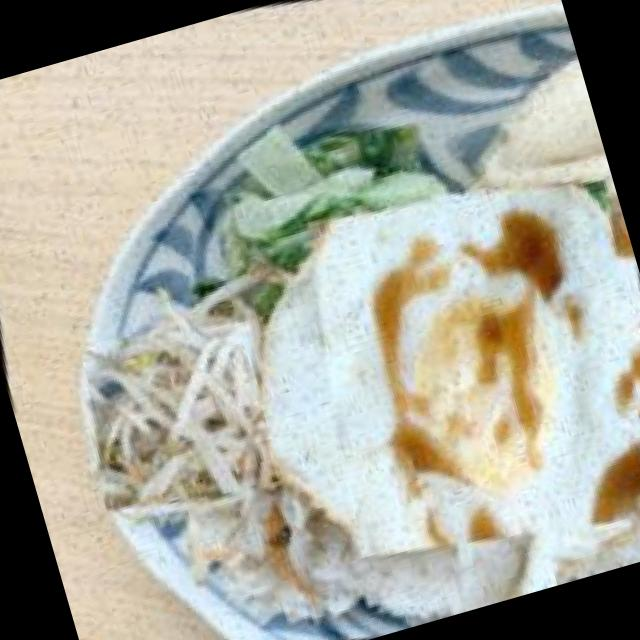fried_eggs: (251, 143, 640, 594)
mung_bean_sprouts: (57, 294, 296, 534)
rice: (360, 414, 632, 629)
